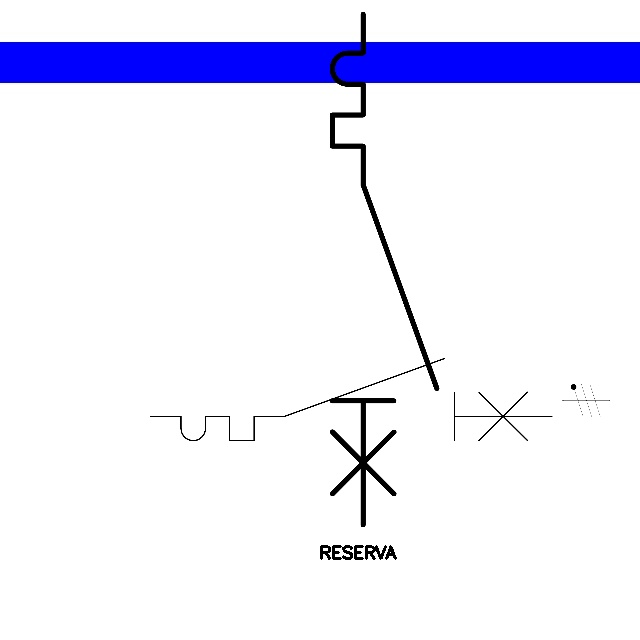interruptor_termomagnetico: (319, 1, 450, 538), (140, 348, 562, 451)
